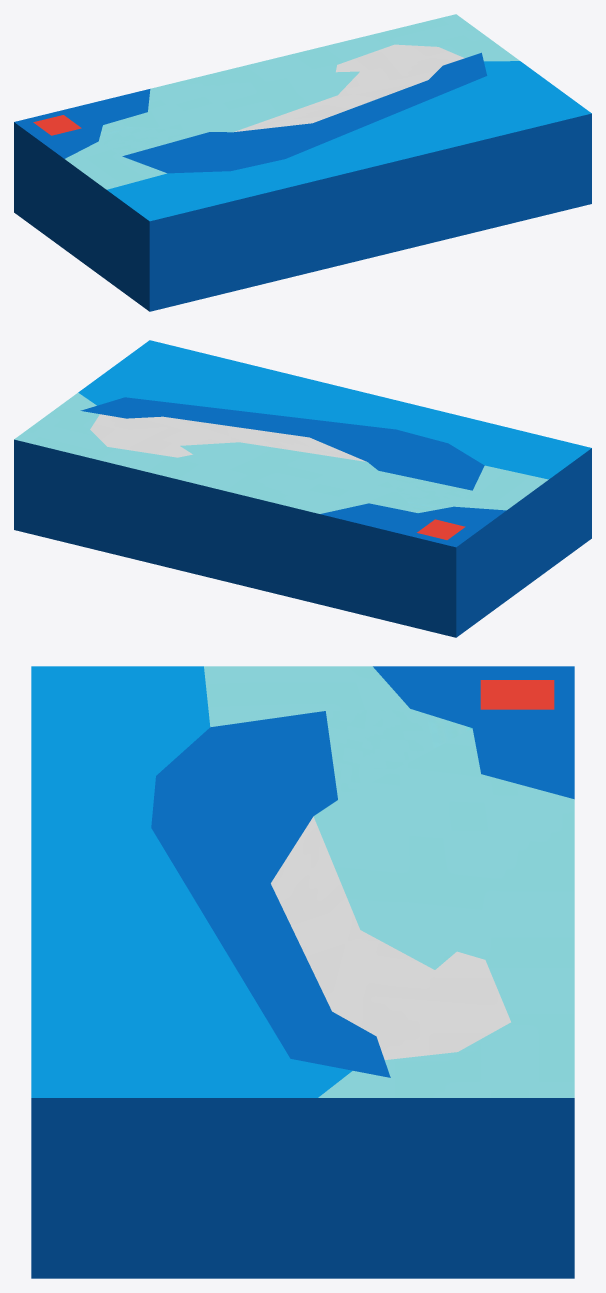
Rendered from toy_012.glb.
The picture shows the model from 3 angles, top to bottom: view 1: azimuth 30°, elevation 25°; view 2: azimuth 150°, elevation 25°; view 3: azimuth 270°, elevation 25°; orthographic projection. The views are drawn at different scales.
Visible parts, largest first — view 1: toy_012; view 2: toy_012; view 3: toy_012.
Boxes of the visible parts, x1,y1,x2,y2 form: toy_012: [14, 14, 591, 311]; toy_012: [14, 340, 591, 637]; toy_012: [31, 666, 574, 1278].
Bounding box in the file's own units: 0.6507 × 0.1272 × 0.346.
1 material, 1 textured.
